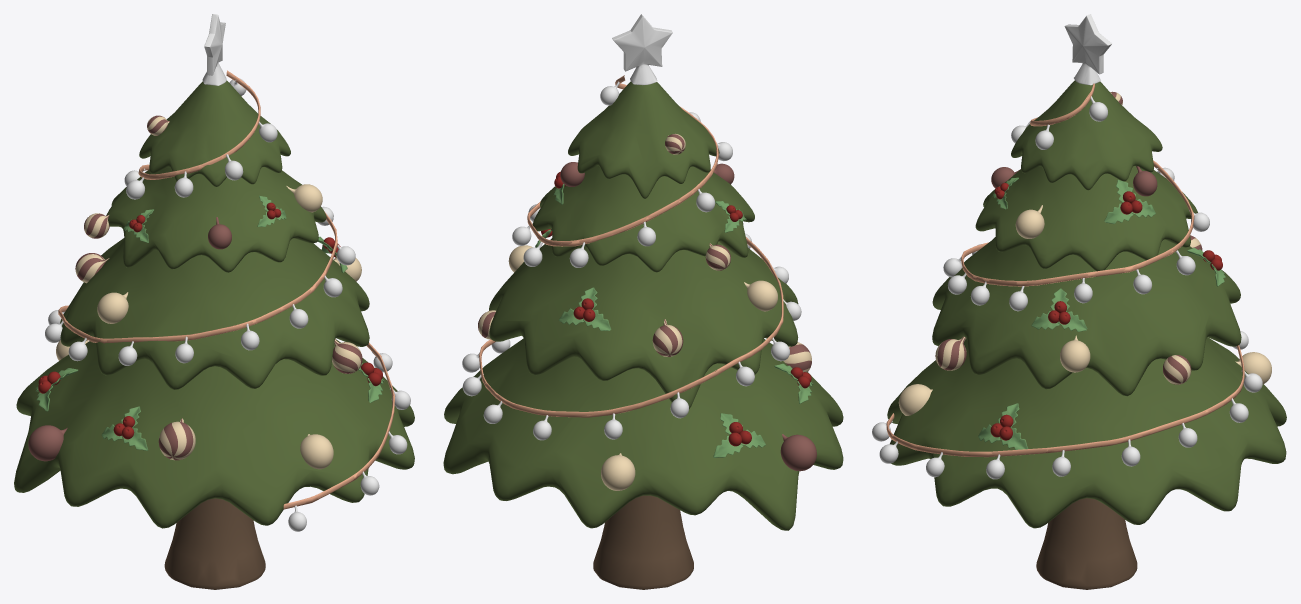
File: christmas_tree.glb
3 views of the same model, side by side, from view 1: azimuth 30°, elevation 25°; view 2: azimuth 150°, elevation 25°; view 3: azimuth 270°, elevation 25° (orthographic).
Visible parts, largest first — view 1: Circle.033, Circle.034, Circle.035, Circle.036, Cylinder.072, Sphere.061, Cylinder.073_1, Cylinder.073, Sphere.069, Circle, Sphere.071, Sphere.062 (+7 smaller); view 2: Circle.033, Circle.034, Circle.035, Circle.036, Cylinder.072, Sphere.061, Cylinder.073_1, Circle, Cylinder.073, Sphere.071, Sphere.068, Sphere.065 (+5 smaller); view 3: Circle.033, Circle.034, Circle.035, Circle.036, Cylinder.072, Sphere.061, Cylinder.073_1, Cylinder.073, Circle, Sphere.001, Sphere.003, Plane.023 (+6 smaller).
Part boxes in pixels (<box>): Circle.033: <box>14,339,414,528</box>; Circle.034: <box>60,238,369,389</box>; Circle.035: <box>106,167,326,272</box>; Circle.036: <box>139,80,290,186</box>; Cylinder.072: <box>164,498,265,589</box>; Sphere.061: <box>45,78,410,531</box>; Cylinder.073_1: <box>59,70,394,509</box>; Cylinder.073: <box>58,70,395,509</box>; Sphere.069: <box>158,418,195,460</box>; Circle: <box>202,14,226,85</box>; Sphere.071: <box>28,425,67,461</box>; Sphere.062: <box>300,434,333,469</box>; Circle.033: <box>443,338,843,530</box>; Circle.034: <box>489,238,798,408</box>; Circle.035: <box>532,166,754,272</box>; Circle.036: <box>568,81,719,198</box>; Cylinder.072: <box>593,495,693,589</box>; Sphere.061: <box>462,81,801,440</box>; Cylinder.073_1: <box>479,75,783,416</box>; Circle: <box>612,14,672,85</box>; Cylinder.073: <box>479,75,783,417</box>; Sphere.071: <box>780,434,816,471</box>; Sphere.068: <box>601,453,635,490</box>; Sphere.065: <box>652,319,683,356</box>; Circle.033: <box>887,337,1286,528</box>; Circle.034: <box>932,237,1241,396</box>; Circle.035: <box>975,166,1197,271</box>; Circle.036: <box>1011,80,1162,190</box>; Cylinder.072: <box>1036,498,1137,589</box>; Sphere.061: <box>872,96,1262,479</box>; Cylinder.073_1: <box>886,83,1244,456</box>; Cylinder.073: <box>886,84,1244,457</box>; Circle: <box>1064,14,1111,85</box>; Sphere.001: <box>935,336,966,370</box>; Sphere.003: <box>1060,335,1090,372</box>; Plane.023: <box>1031,288,1087,331</box>.
Bounding box in the file's own units: 2.8 × 4.26 × 2.87.
